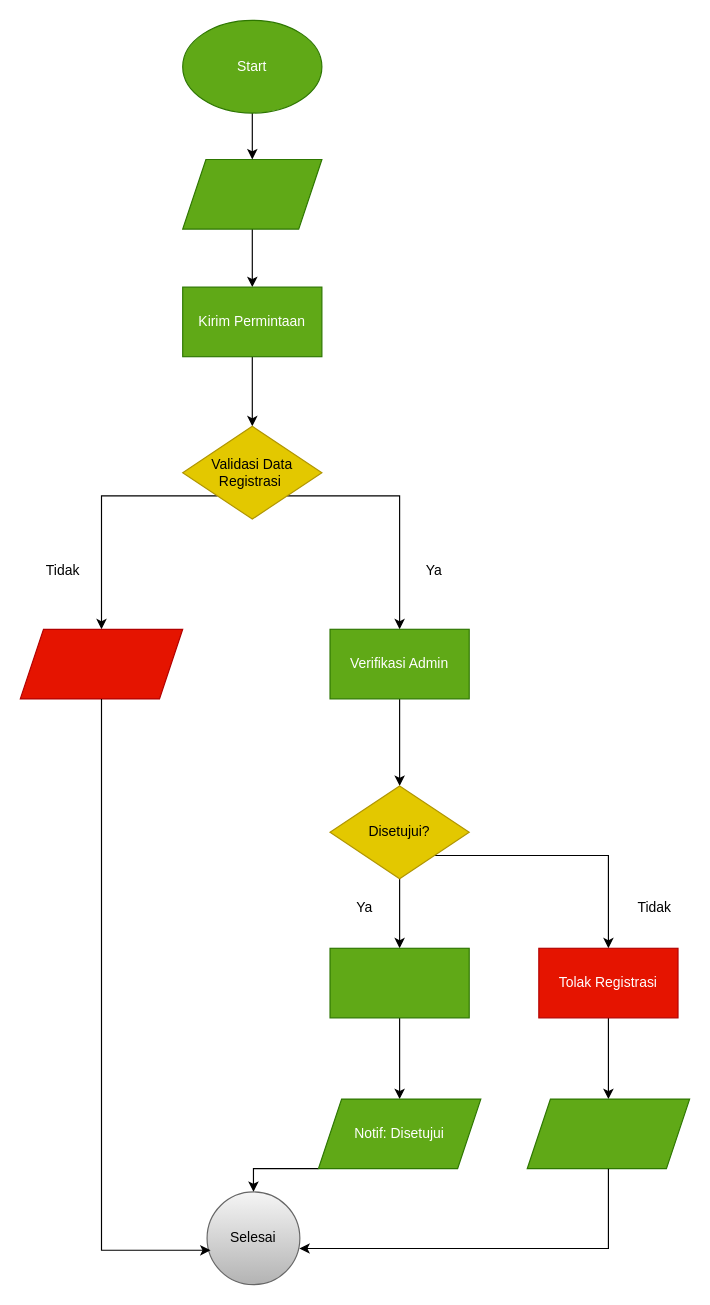
Some shapes in this 710 by 1305 pixel diagram are drawn without their labels. The box of each missing label's shape, as (x1, y1, x2, y2) in pixels:
Mengisi Form Registrasi: (182, 158, 322, 229)
Notif: Ditolak: (526, 1098, 690, 1169)
Notif: Tidak Tersedia: (19, 628, 183, 699)
Simpen ke Database: (329, 947, 469, 1018)
